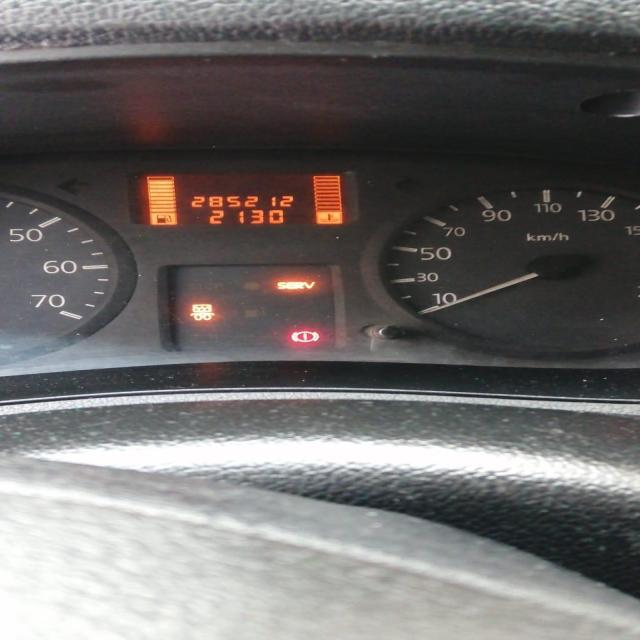odometer: (127, 170, 353, 228)
